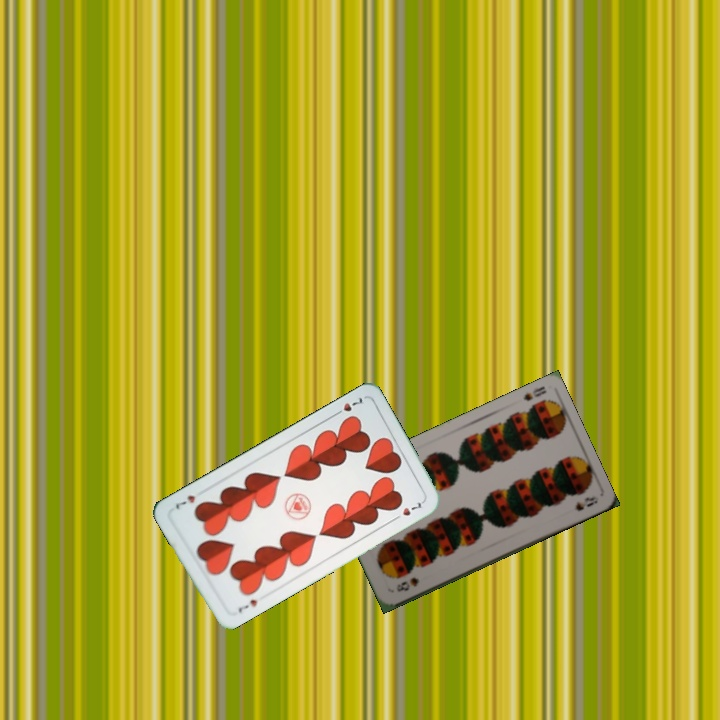H7: (330, 393, 367, 419), (234, 595, 259, 615)
S8: (519, 382, 549, 404), (392, 573, 421, 594)
